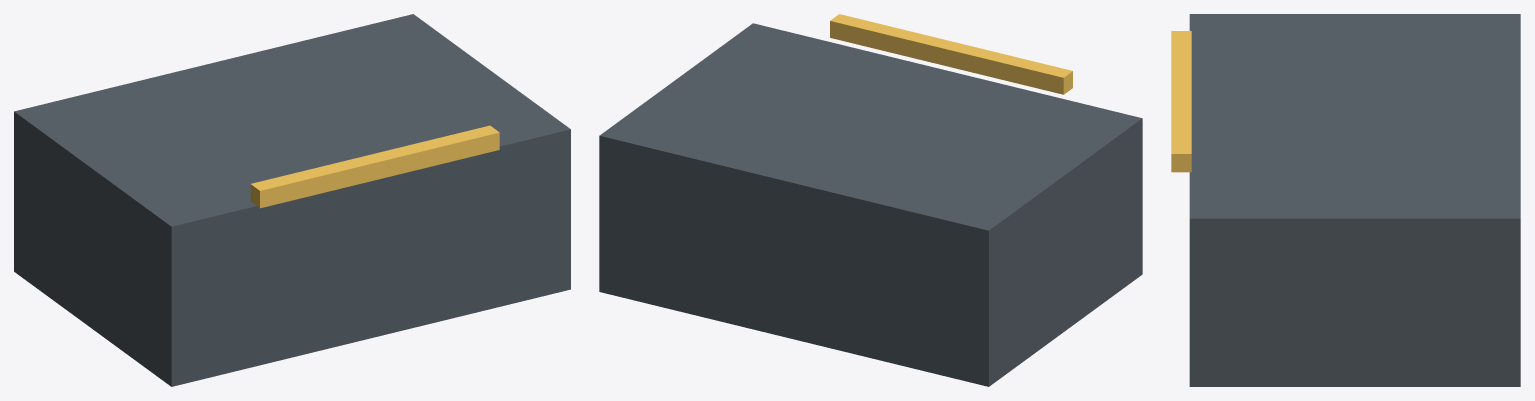
Rendered from pickup.flashbang_box.glb.
The picture shows the model from 3 angles, left to right: view 1: azimuth 30°, elevation 25°; view 2: azimuth 150°, elevation 25°; view 3: azimuth 270°, elevation 25°; orthographic projection. The views are drawn at different scales.
Parts seen in each view (by area): view 1: flash_box, flash_mark; view 2: flash_box, flash_mark; view 3: flash_box, flash_mark.
Part boxes in pixels (x1,y1,x2,y2): flash_box: [14, 14, 570, 386]; flash_mark: [250, 125, 499, 208]; flash_box: [599, 23, 1142, 386]; flash_mark: [830, 14, 1072, 94]; flash_box: [1189, 14, 1520, 386]; flash_mark: [1171, 31, 1191, 172].
Size of the model in its own units: 1.2 by 0.525 by 0.865.
